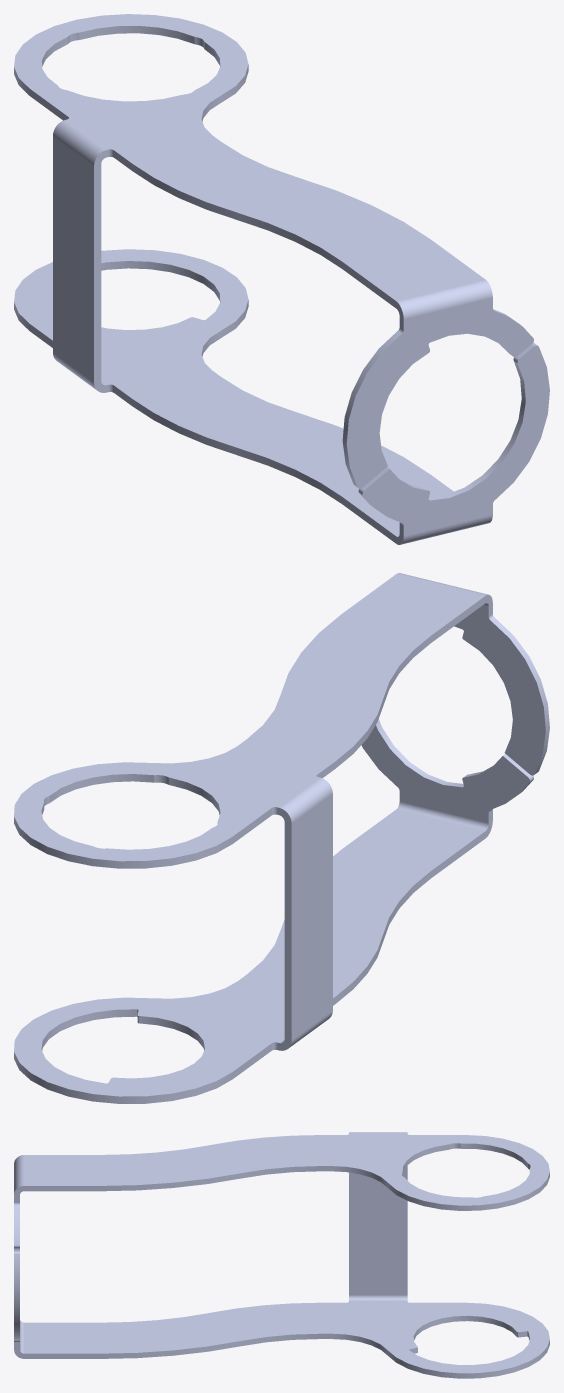
The picture shows the model from 3 angles, top to bottom: view 1: azimuth 30°, elevation 25°; view 2: azimuth 150°, elevation 25°; view 3: azimuth 270°, elevation 25°; orthographic projection. The views are drawn at different scales.
Parts seen in each view (by area): view 1: Body1; view 2: Body1; view 3: Body1.
Boxes of the visible parts, x1,y1,x2,y2 form: Body1: (14, 14, 549, 544); Body1: (14, 573, 549, 1103); Body1: (14, 1132, 549, 1378).
Bounding box in the file's own units: 0.062 × 0.065 × 0.1825.
